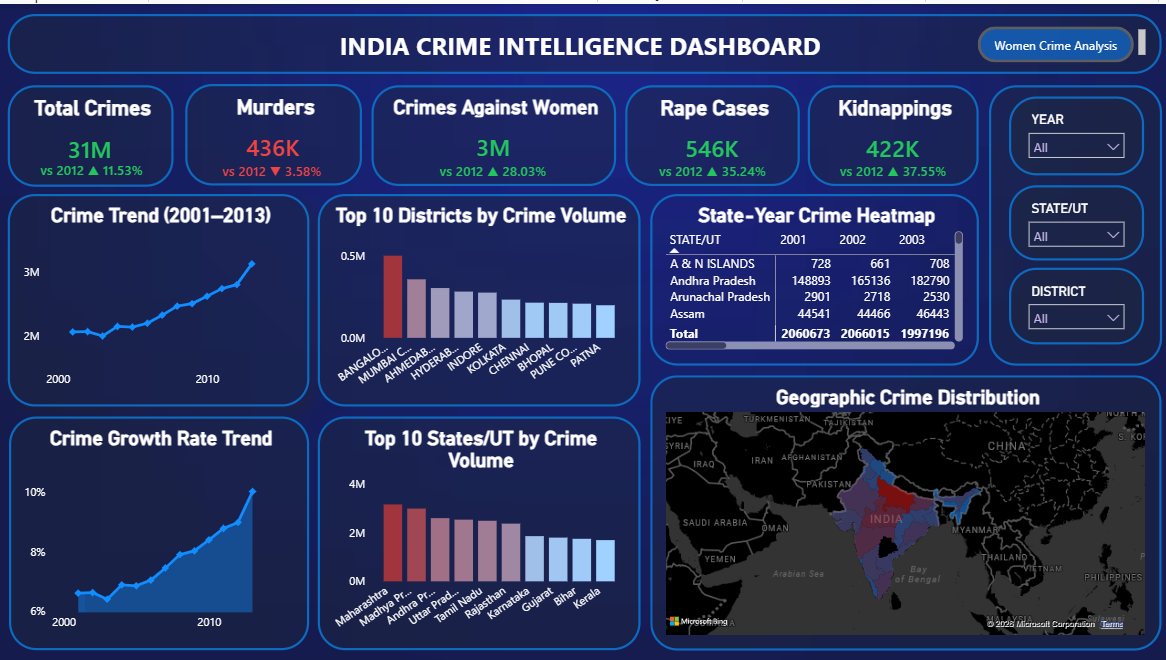

The page's visual inventory and layout, read from the dashboard file:
{"tool":"powerbi","page":{"name":"dynamic kpi","canvas":[1280,720],"ordinal":5},"visuals":[{"type":"cardVisual","fields":{"Data":["DATA TABLE.Total Crimes"]},"box":[343.2,460.3,296.3,148.8],"z":0},{"type":"cardVisual","fields":{"Data":["DATA TABLE.Crime Growth %"]},"box":[1118.9,0,161.4,112.5],"z":1000},{"type":"cardVisual","fields":{"Data":["CRIME AGAINST WOMEN.Total Murder Cases"]},"box":[15.9,222.6,309.4,205.4],"z":2000},{"type":"cardVisual","fields":{"Data":["CRIME AGAINST WOMEN.Murder Growth %"]},"box":[1101.8,101.5,178.5,137],"z":3000},{"type":"cardVisual","fields":{"Data":["DATA TABLE.CAW Growth %"]},"box":[1118.9,212.8,161.4,205.4],"z":4000},{"type":"cardVisual","fields":{"Data":["DATA TABLE.total of crime against women"]},"box":[15.9,459.8,309.4,205.4],"z":5000},{"type":"slicer","fields":{"Values":["DATA TABLE.YEAR"]},"box":[691.6,24.7,443.2,145.5],"z":6000},{"type":"cardVisual","fields":{"Data":["CRIME AGAINST WOMEN.Rape Growth %"]},"box":[1099.4,403.3,180.9,113.3],"z":7000},{"type":"cardVisual","fields":{"Data":["CRIME AGAINST WOMEN.Total Rape Cases"]},"box":[335.6,20.7,303.8,192],"z":8000},{"type":"cardVisual","fields":{"Data":["CRIME AGAINST WOMEN.Total Kidnapping Cases"]},"box":[335.6,223.7,303.8,204.4],"z":9000},{"type":"cardVisual","fields":{"Data":["CRIME AGAINST WOMEN.Kidnapping Growth %"]},"box":[1102.1,515.2,178.2,204.4],"z":10000},{"type":"cardVisual","title":"Total Crimes","fields":{"Data":["DATA TABLE.Total Crimes"]},"box":[827,186.8,212.9,185.4],"z":11000},{"type":"cardVisual","title":"Total Crimes","fields":{"Data":["DATA TABLE.Total Crimes"]},"box":[834.3,393.8,197.6,153.7],"z":12000},{"type":"tableEx","fields":{"Values":["DATA TABLE.STATE/UT","DATA TABLE.Crime Growth %"]},"box":[16,21,309,192],"z":13000},{"type":"cardVisual","fields":{"Data":["Sum(DATA TABLE.BURGLARY)"]},"box":[813.7,562.4,237.4,134.7],"z":14000}]}

Visuals, with their boxes in screenshot pixels (x1, y1, x2, y2), scaled from the page's 1280x720 canvas onto the 1166x660 screenshot:
cardVisual - DATA TABLE.Total Crimes: [313, 422, 583, 558]
cardVisual - DATA TABLE.Crime Growth %: [1019, 0, 1165, 103]
cardVisual - CRIME AGAINST WOMEN.Total Murder Cases: [14, 204, 296, 392]
cardVisual - CRIME AGAINST WOMEN.Murder Growth %: [1004, 93, 1165, 219]
cardVisual - DATA TABLE.CAW Growth %: [1019, 195, 1165, 383]
cardVisual - DATA TABLE.total of crime against women: [14, 421, 296, 610]
slicer - DATA TABLE.YEAR: [630, 23, 1034, 156]
cardVisual - CRIME AGAINST WOMEN.Rape Growth %: [1001, 370, 1165, 474]
cardVisual - CRIME AGAINST WOMEN.Total Rape Cases: [306, 19, 582, 195]
cardVisual - CRIME AGAINST WOMEN.Total Kidnapping Cases: [306, 205, 582, 392]
cardVisual - CRIME AGAINST WOMEN.Kidnapping Growth %: [1004, 472, 1165, 659]
"Total Crimes" cardVisual: [753, 171, 947, 341]
"Total Crimes" cardVisual: [760, 361, 940, 502]
tableEx - DATA TABLE.STATE/UT x DATA TABLE.Crime Growth %: [15, 19, 296, 195]
cardVisual - Sum(DATA TABLE.BURGLARY): [741, 516, 957, 639]
